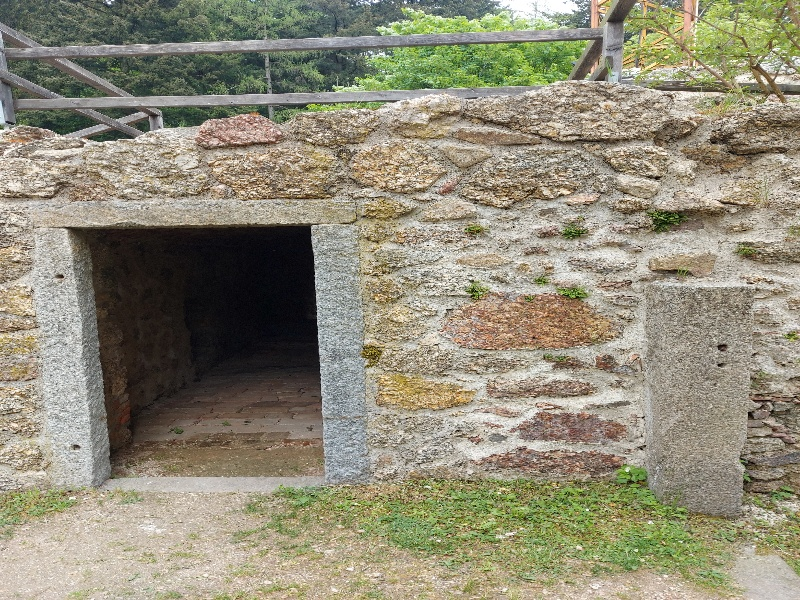door2: (17, 181, 378, 511)
